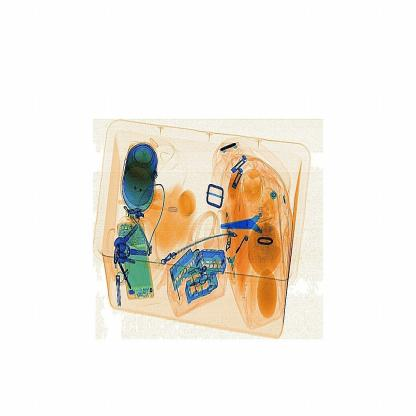gun: (220, 198, 285, 251)
